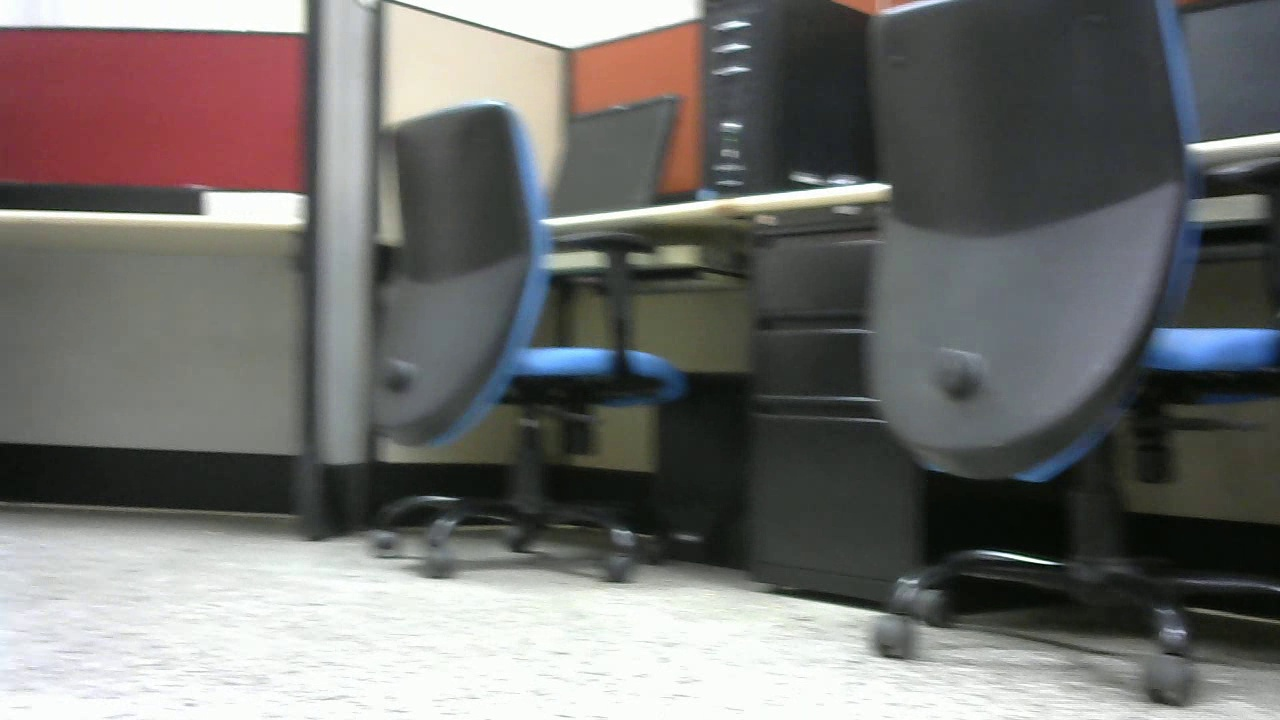chair: (848, 1, 1280, 703), (339, 98, 698, 580)
